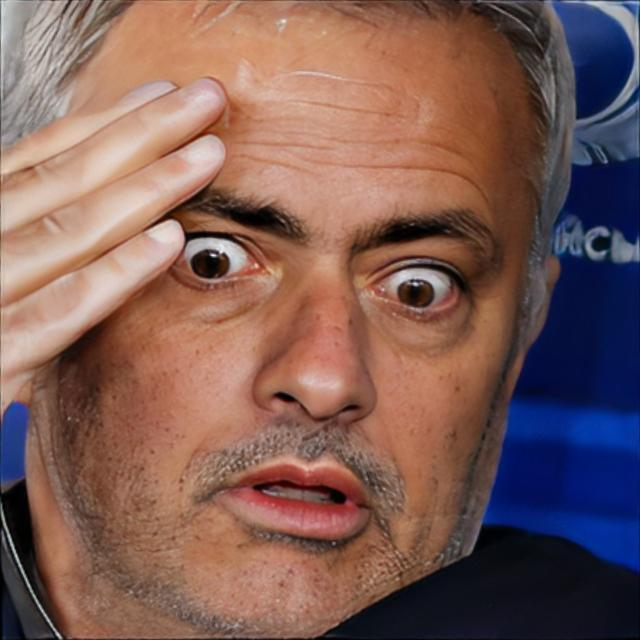fear: (24, 0, 542, 635)
